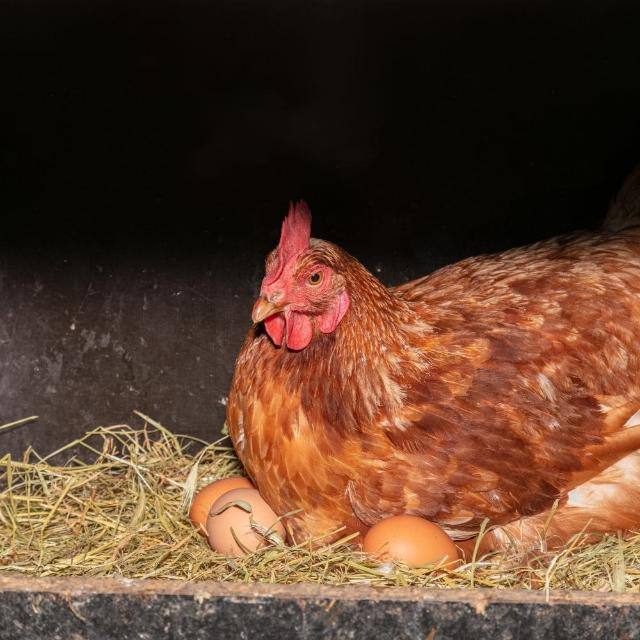Chicken: (227, 197, 640, 563)
